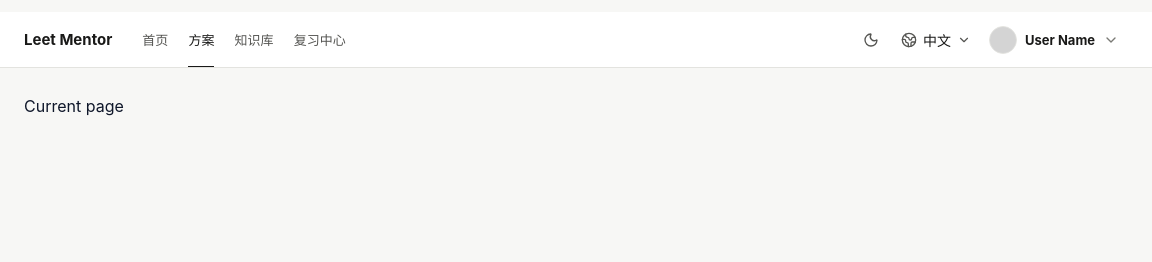
Test case: AppShell › switches the shell language and persists the selection
Click the dropdown named "语言". click: point(936, 40)
box: [892,22,980,58]
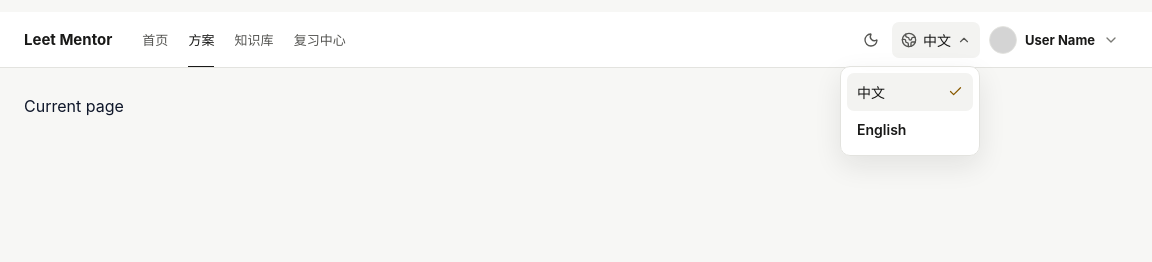
Click the option "English". click: point(910, 130)
box: [847,110,973,148]
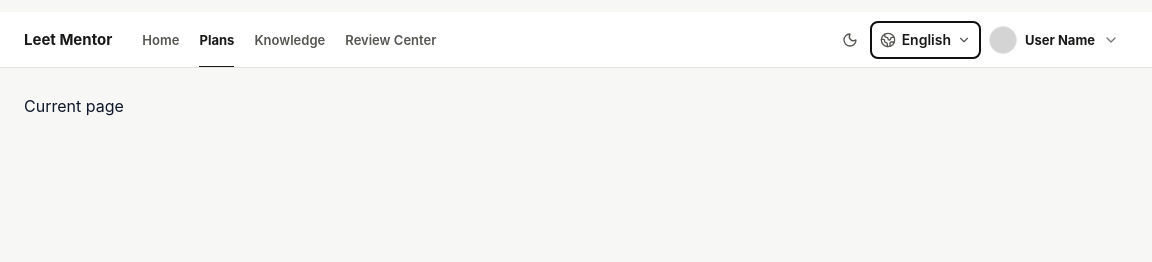
Result: the button "Home" is shown at [140,12,181,67]
Click the button "User Name". click: point(1056, 40)
box: [984,20,1128,58]
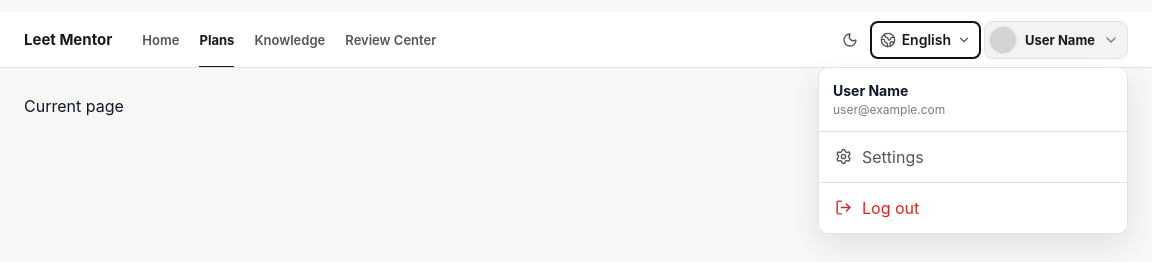
Result: the button "Settings" is shown at [825,138,1121,176]
Result: the button "Log out" is shown at [825,188,1121,226]
